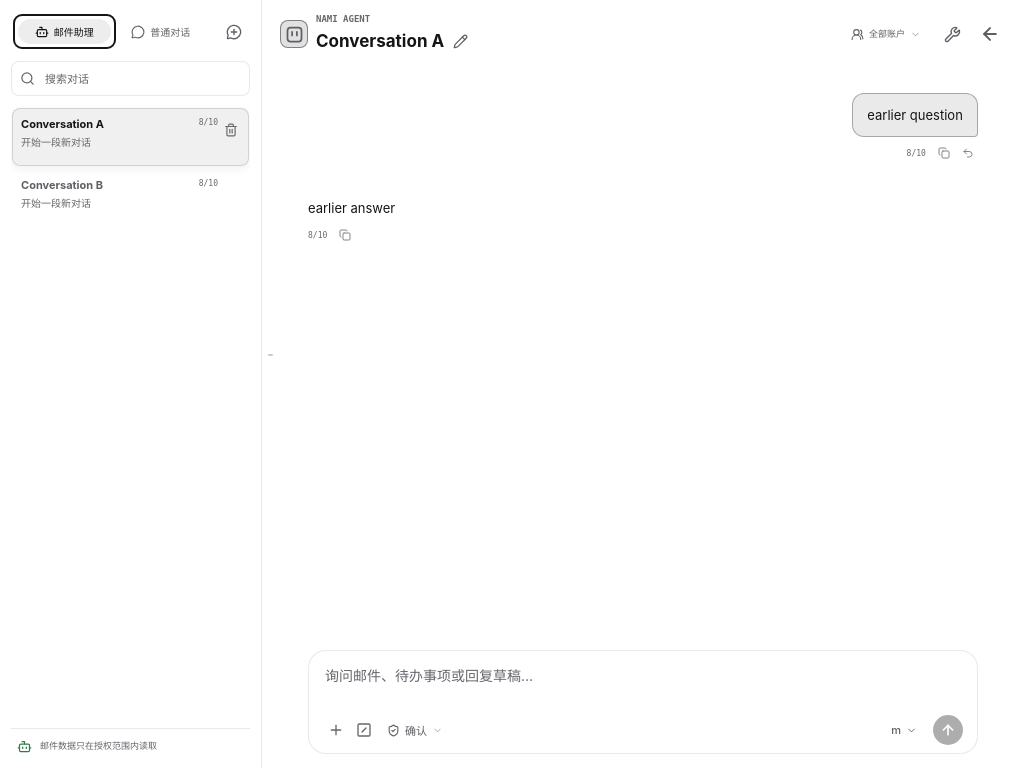
AgentWorkspace conversation switching › right-clicking a conversation row opens a menu with delete / select / rename / export
Right-click the element with class "agent-conversation-row" showing "Conversation A 开始一段新对话 8/10": (130,137) [12,108,249,166]
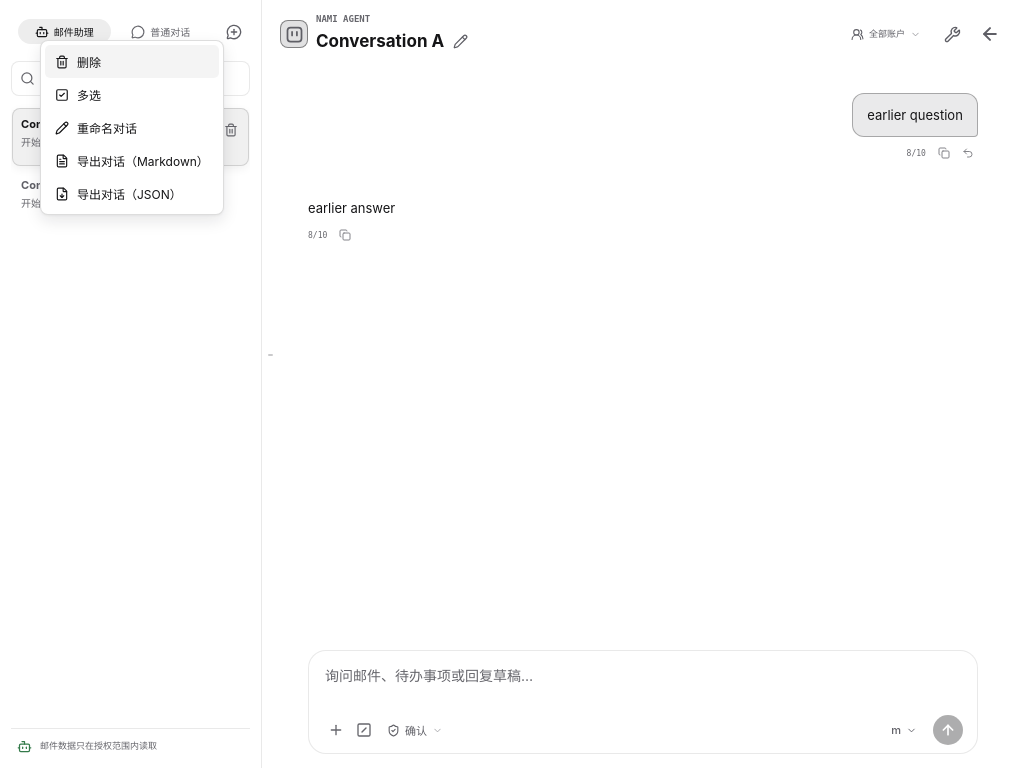
Expected: the menu with class "agent-context-menu" is shown, [40,40,224,215]
Click the menu item "删除": (132,62) [45,45,219,78]
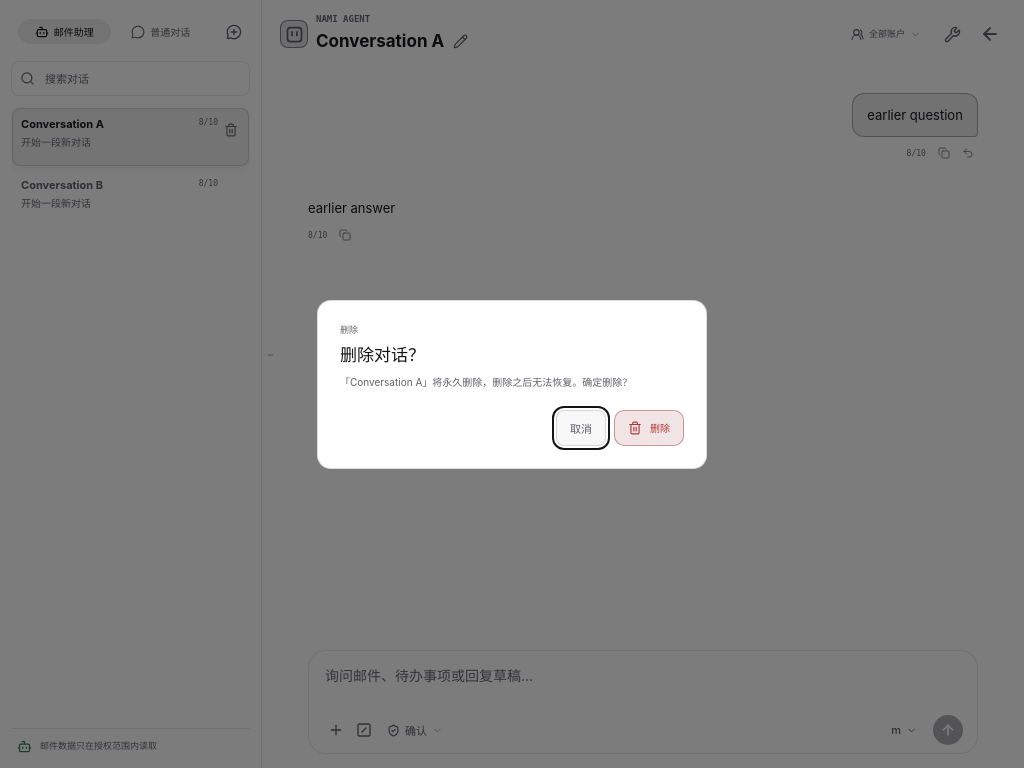
Expected: the dialog with class "confirmation-card" is shown, [317,300,707,468]
Click the button with class "danger-button": (649,428) [614,410,684,446]
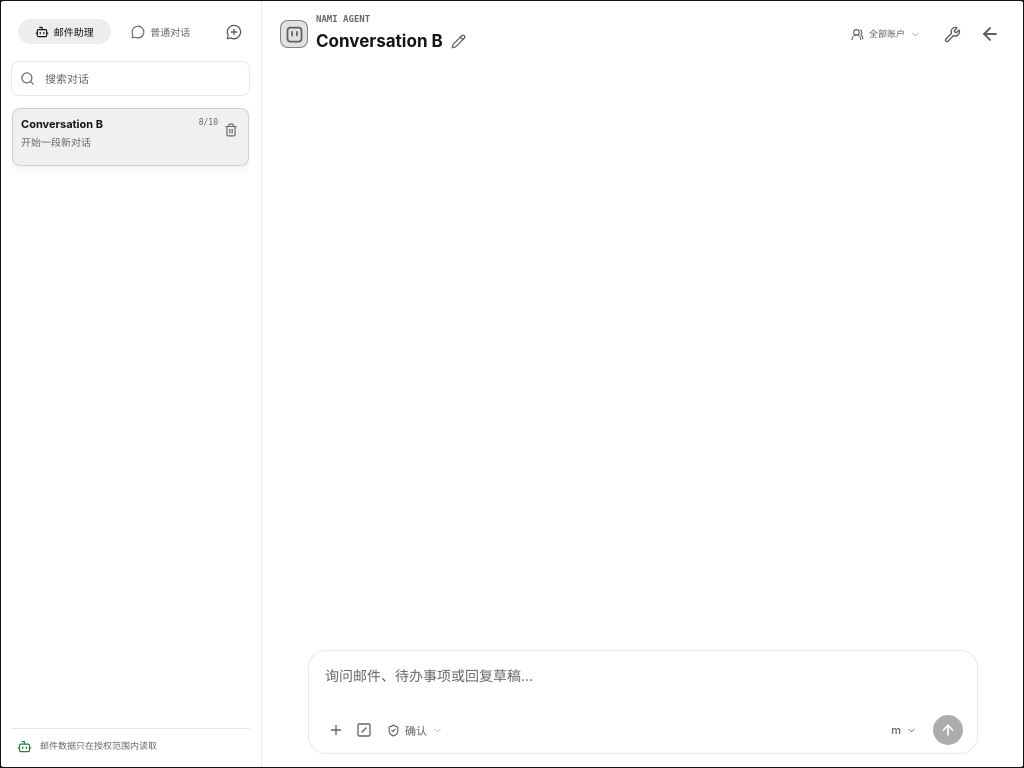
Expected: the dialog with class "confirmation-card" is gone
